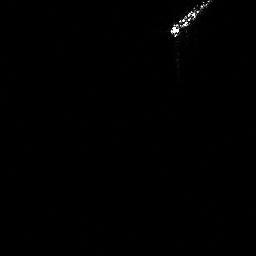ship: (165, 1, 216, 41)
